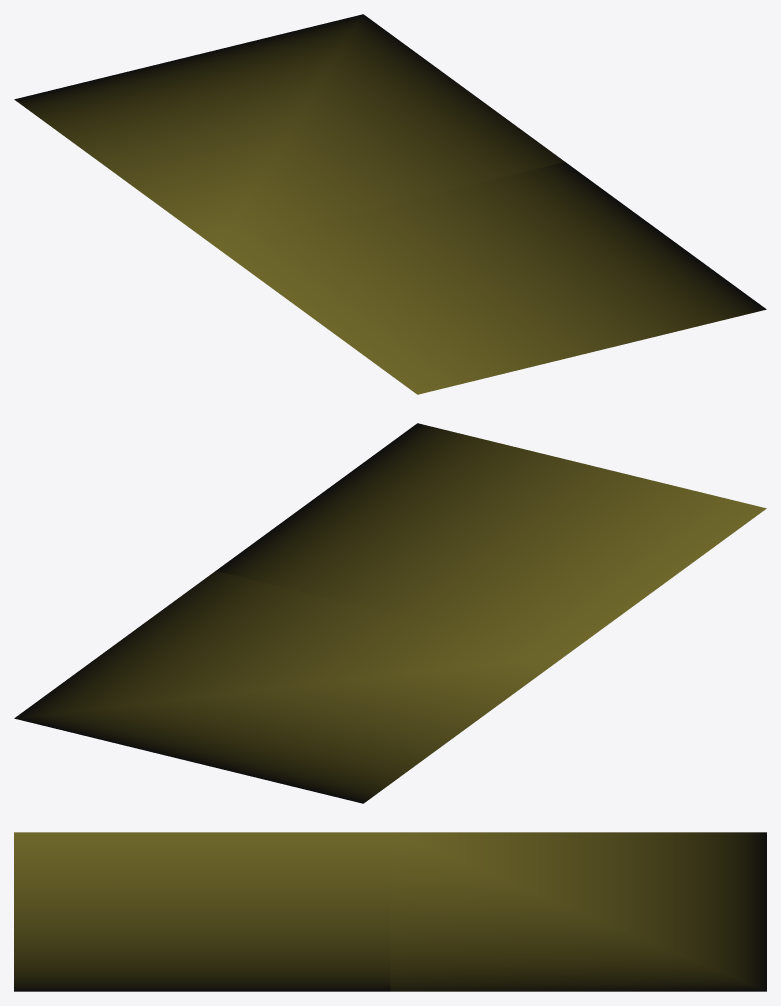
3 views of the same model, one above another, from view 1: azimuth 30°, elevation 25°; view 2: azimuth 150°, elevation 25°; view 3: azimuth 270°, elevation 25° (orthographic). The views are drawn at different scales.
Bounding box in the file's own units: 0.5 × 0 × 1.
1 material, 1 textured.
